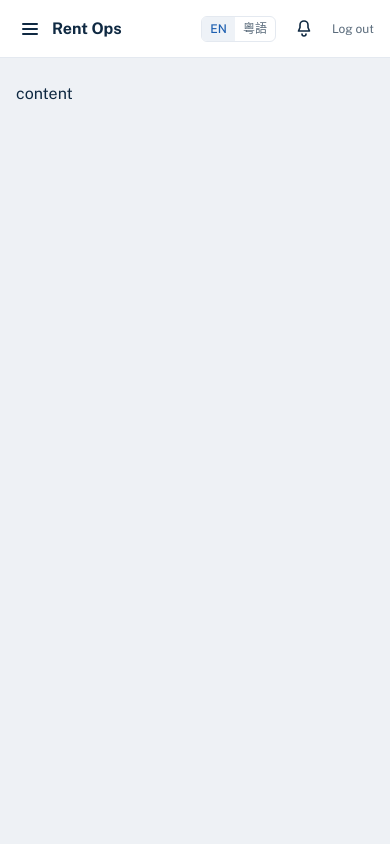
Test: AppShell mobile drawer › opens and closes the nav drawer
The width and height of the screenshot is (390, 844).
Click the button named "Open menu" at (30, 28), box x1=16 y1=14 x2=44 y2=42
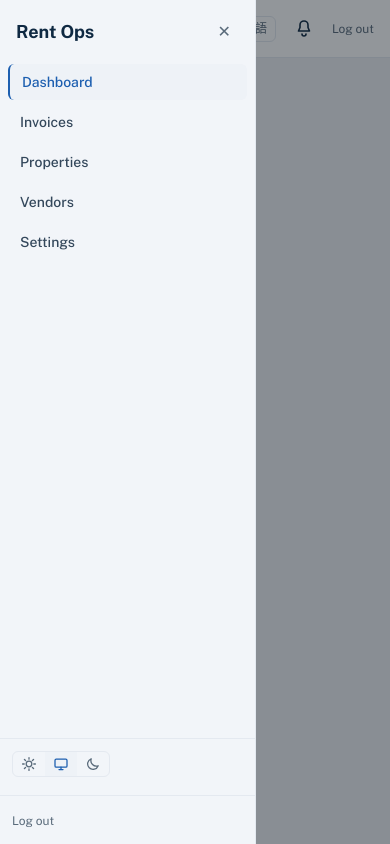
Expected: the dialog is shown
Click the button named "Close menu" at (224, 32), box x1=210 y1=16 x2=239 y2=48
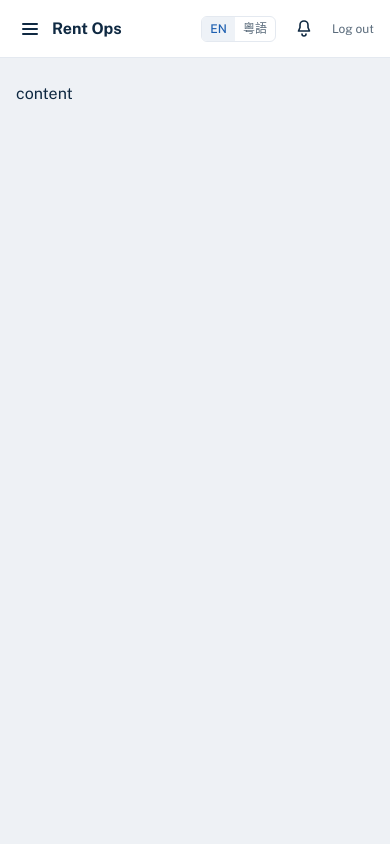
Expected: the dialog is gone
